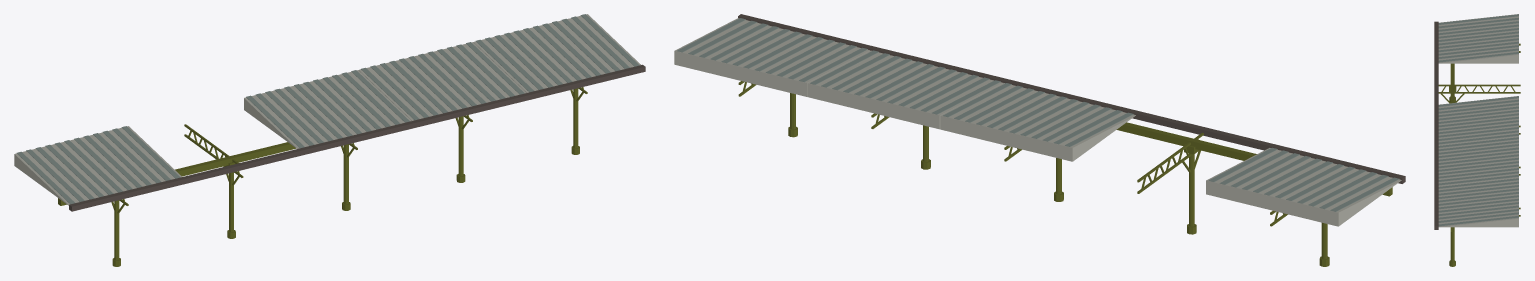
The model's file is SM_marquesina_v1_LOD0.fbx.
3 renders of one model, left to right at view 1: azimuth 30°, elevation 25°; view 2: azimuth 150°, elevation 25°; view 3: azimuth 270°, elevation 25°, orthographic. The views are drawn at different scales.
Visible parts, largest first — view 1: SM_bloques.marquesina_v1_LOD0; view 2: SM_bloques.marquesina_v1_LOD0; view 3: SM_bloques.marquesina_v1_LOD0.
Boxes of the visible parts, bbox=[...] form: SM_bloques.marquesina_v1_LOD0: bbox=[14, 14, 645, 266]; SM_bloques.marquesina_v1_LOD0: bbox=[674, 14, 1405, 266]; SM_bloques.marquesina_v1_LOD0: bbox=[1434, 14, 1520, 266].
Size of the model in its own units: 30 by 4.63 by 5.32.
